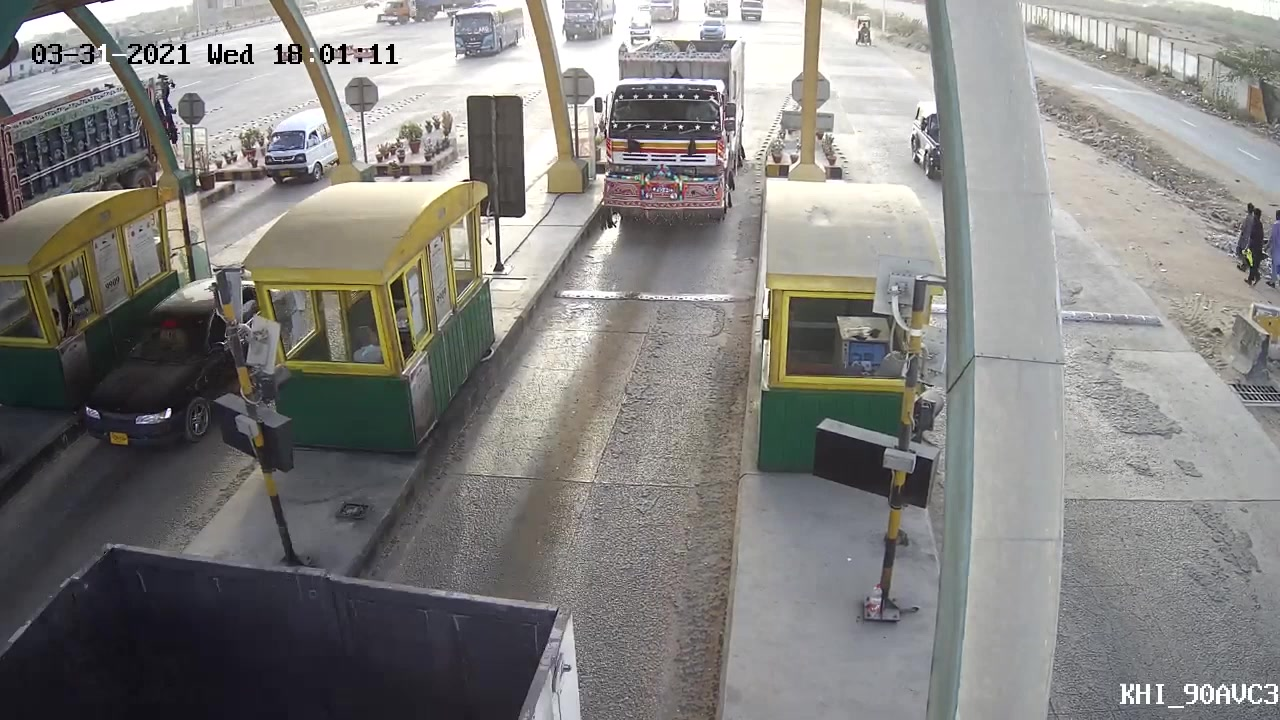F5: (581, 32, 751, 232)
